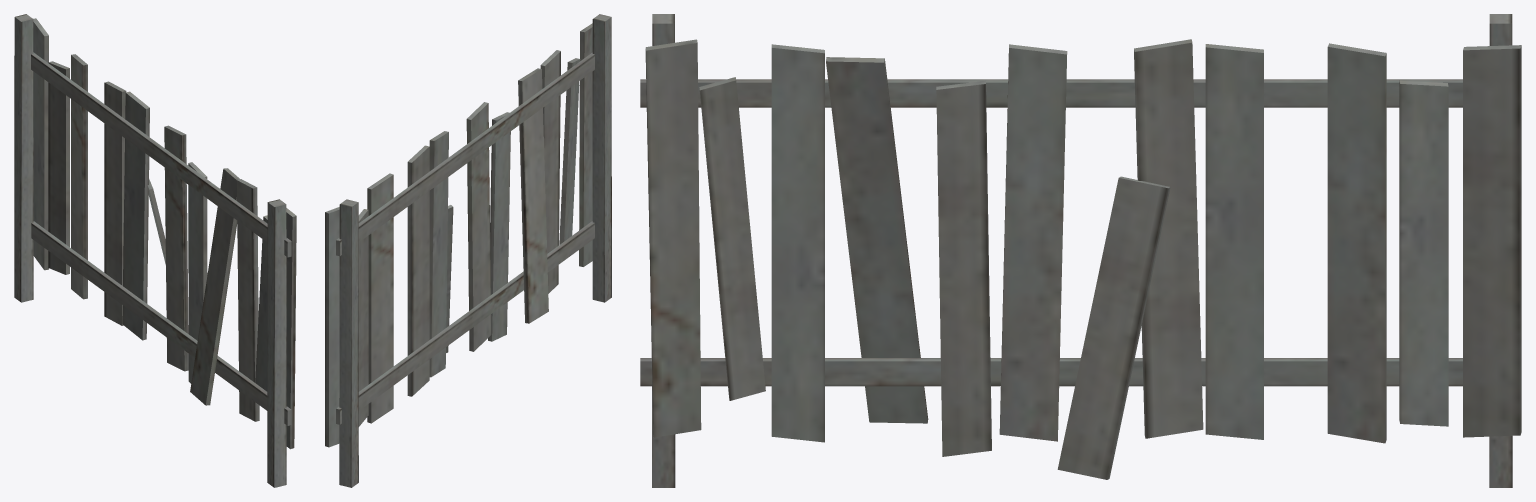
File: MiniBR_Fence001.fbx
3 views of the same model, side by side, from view 1: azimuth 30°, elevation 25°; view 2: azimuth 150°, elevation 25°; view 3: azimuth 270°, elevation 25° (orthographic). The views are drawn at different scales.
Visible parts, largest first — view 1: MiniBR_Fence001; view 2: MiniBR_Fence001; view 3: MiniBR_Fence001.
Boxes of the visible parts, box(x1,y1,x2,y2) form: MiniBR_Fence001: box(14, 14, 296, 487); MiniBR_Fence001: box(325, 14, 611, 487); MiniBR_Fence001: box(640, 14, 1521, 487).
Bounding box in the file's own units: 48.93 × 400 × 232.
Materials: 1 (1 with a texture image).
